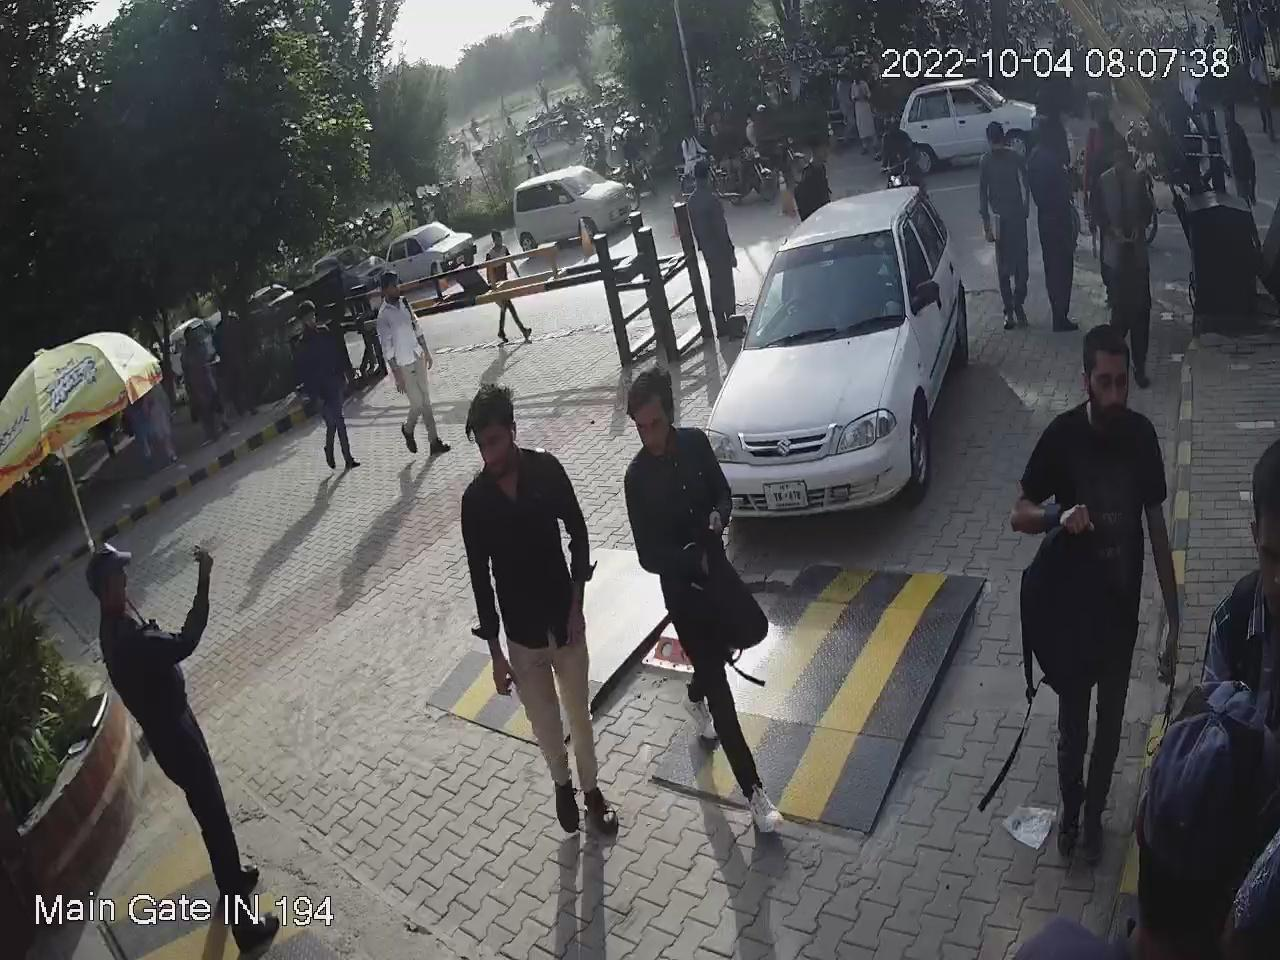windshield: (743, 220, 910, 353)
